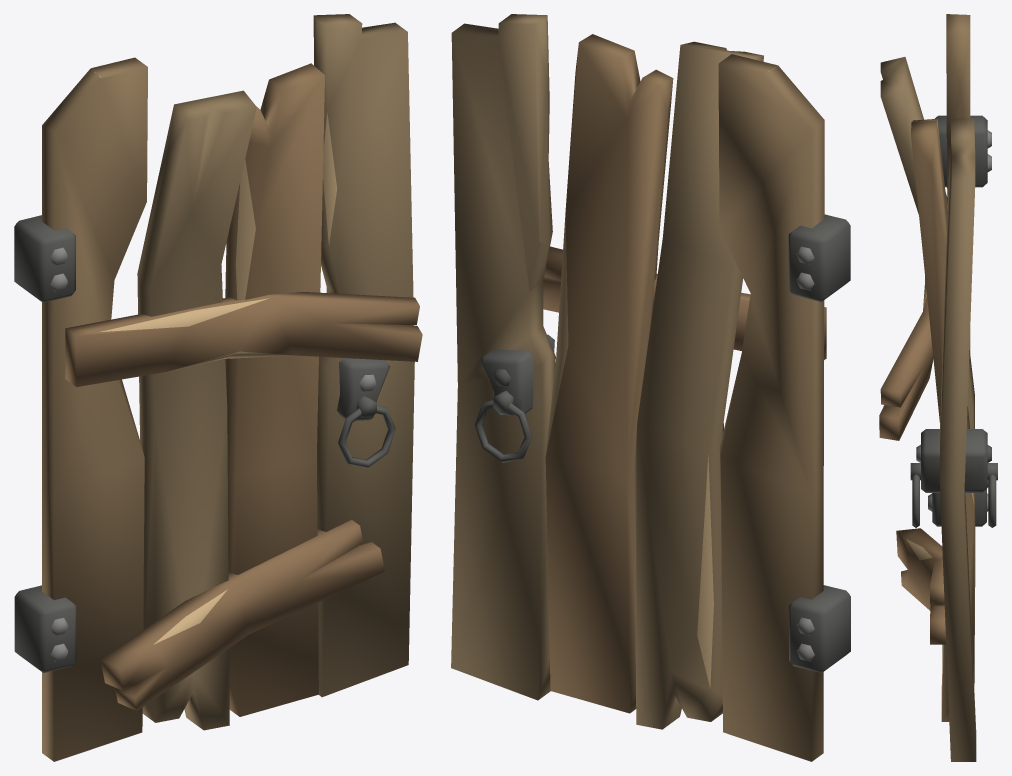
The model's file is rpgpp_av_door_01a.gltf.
3 renders of one model, left to right at view 1: azimuth 30°, elevation 25°; view 2: azimuth 150°, elevation 25°; view 3: azimuth 270°, elevation 25°, orthographic. The views are drawn at different scales.
Visible parts, largest first — view 1: rpgpp_av_door_01a; view 2: rpgpp_av_door_01a; view 3: rpgpp_av_door_01a.
Boxes of the visible parts, left/top/right/bottom form: rpgpp_av_door_01a: left=14, top=14, right=422, bottom=761; rpgpp_av_door_01a: left=451, top=14, right=850, bottom=761; rpgpp_av_door_01a: left=879, top=14, right=997, bottom=761.
Bounding box in the file's own units: 0.0137 × 0.0235 × 0.00407.
1 material, 1 textured.
